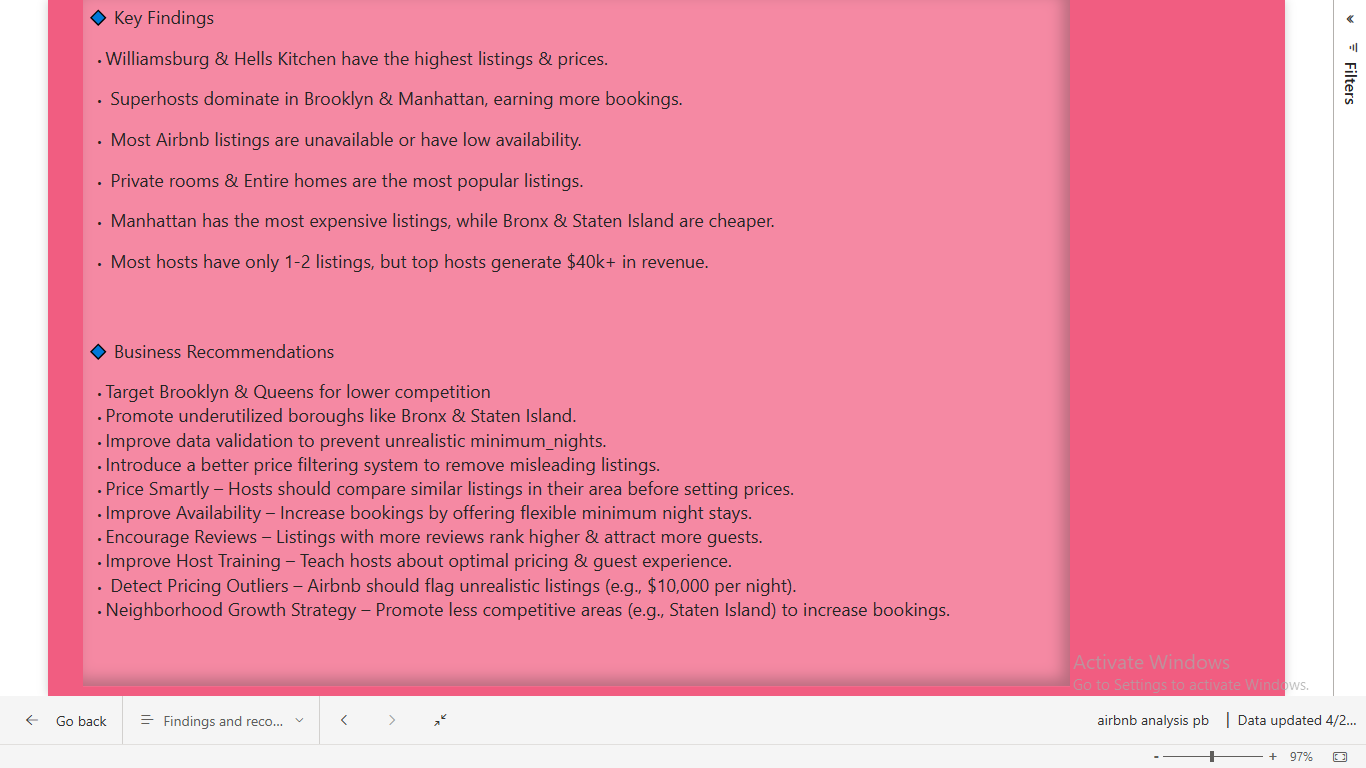

This screenshot's page, from the dashboard's own definition file:
{"tool":"powerbi","page":{"name":"Findings and recommendations","canvas":[1280,720],"ordinal":3},"visuals":[{"type":"textbox","box":[36.1,0,1020.7,709.9],"z":0}]}

Visuals, with their boxes on the page's 1280x720 design canvas (x1, y1, x2, y2). These are canvas units, not pixel positions in the 1366x768 screenshot, which may show the page scaled, cropped or inside an application window:
textbox: <bbox>36, 0, 1057, 710</bbox>
